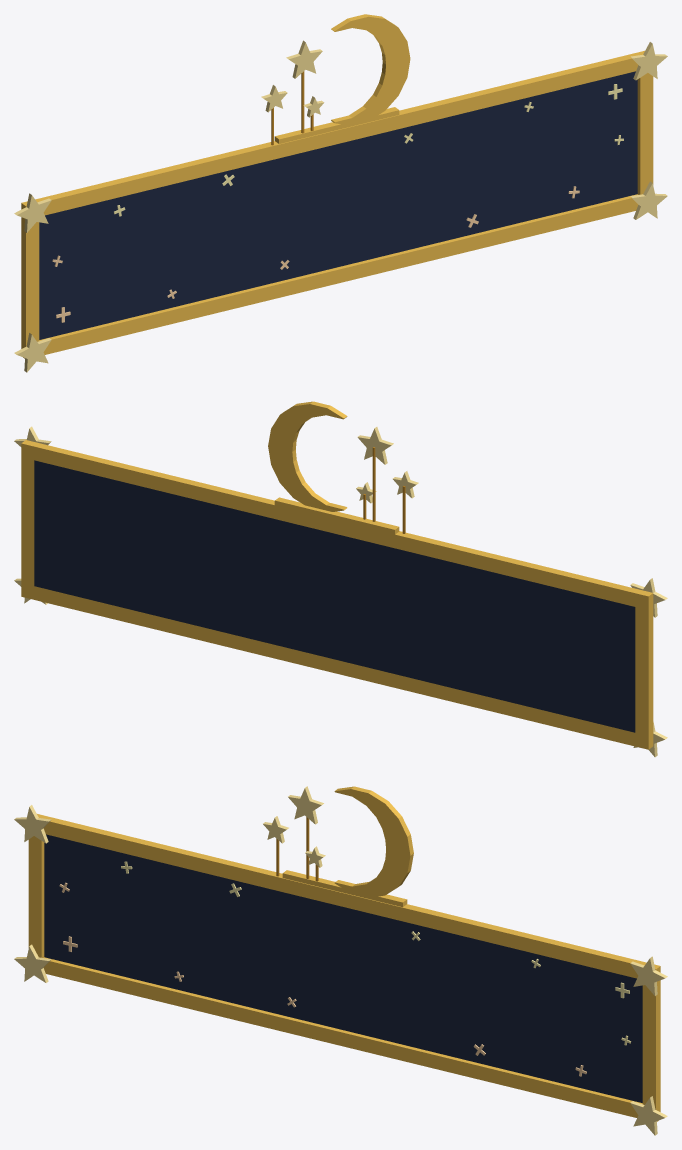
The model's file is CatCafe_Plot_SignStarryNight.glb.
3 renders of one model, top to bottom at view 1: azimuth 30°, elevation 25°; view 2: azimuth 150°, elevation 25°; view 3: azimuth 330°, elevation 25°, orthographic.
Visible parts, largest first — view 1: CatCafe_Plot_SignStarryNight_SignBoard, CatCafe_Plot_SignStarryNight_Frame, CatCafe_Plot_SignStarryNight; view 2: CatCafe_Plot_SignStarryNight_SignBoard, CatCafe_Plot_SignStarryNight_Frame, CatCafe_Plot_SignStarryNight; view 3: CatCafe_Plot_SignStarryNight_SignBoard, CatCafe_Plot_SignStarryNight_Frame, CatCafe_Plot_SignStarryNight.
Boxes of the visible parts, x1,y1,x2,y2 form: CatCafe_Plot_SignStarryNight_SignBoard: (39, 71, 637, 339); CatCafe_Plot_SignStarryNight_Frame: (21, 50, 653, 358); CatCafe_Plot_SignStarryNight: (14, 14, 667, 372); CatCafe_Plot_SignStarryNight_SignBoard: (34, 460, 635, 732); CatCafe_Plot_SignStarryNight_Frame: (21, 440, 653, 749); CatCafe_Plot_SignStarryNight: (14, 401, 667, 757); CatCafe_Plot_SignStarryNight_SignBoard: (44, 834, 642, 1102); CatCafe_Plot_SignStarryNight_Frame: (28, 814, 660, 1121); CatCafe_Plot_SignStarryNight: (14, 786, 667, 1135).
Bounding box in the file's own units: 17.34 × 6.9 × 0.34.
1 material, 1 textured.
